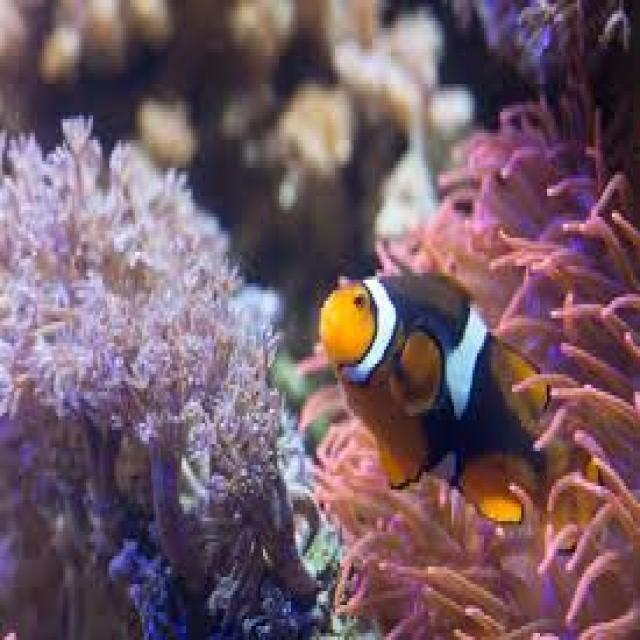ClownFish: (322, 267, 608, 529)
